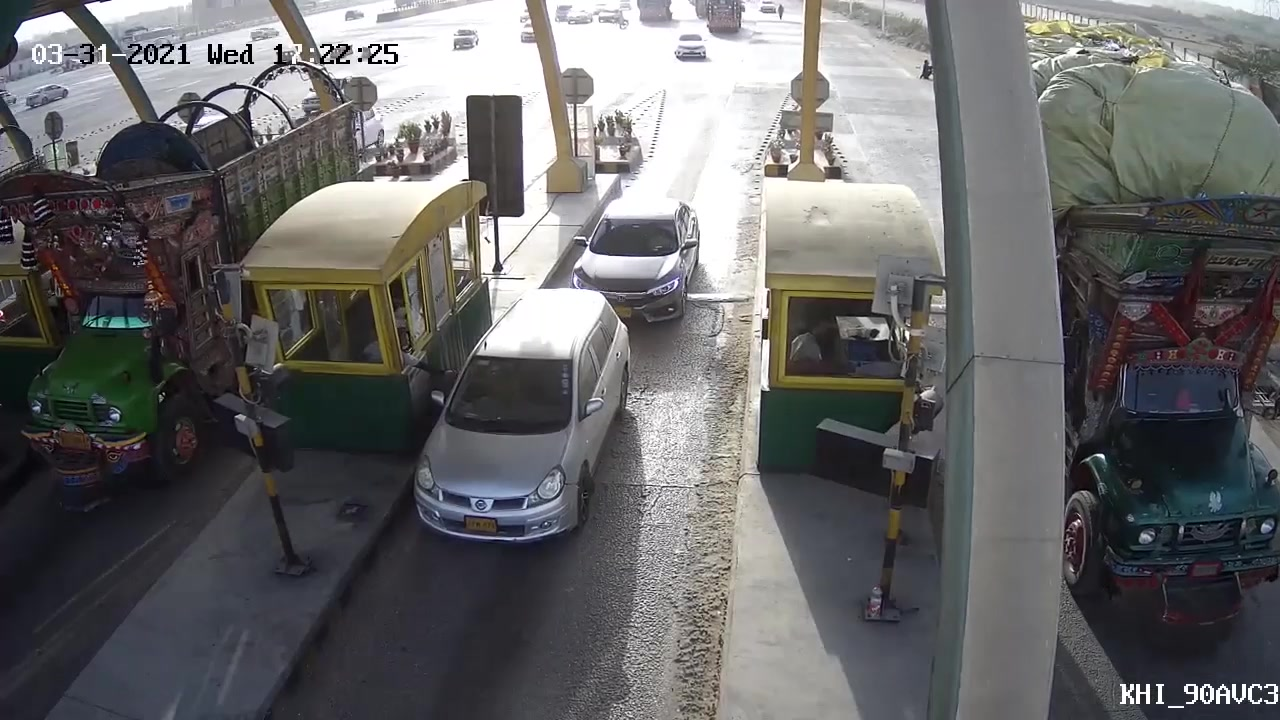F1: (382, 291, 639, 569), (561, 182, 706, 328)
